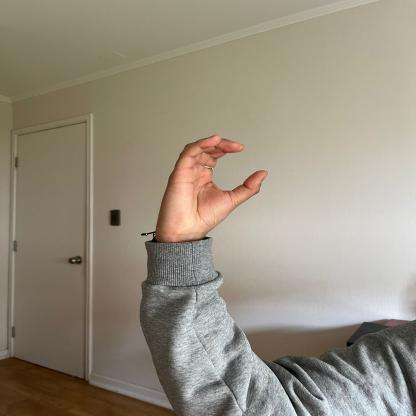C: (150, 130, 271, 239)
